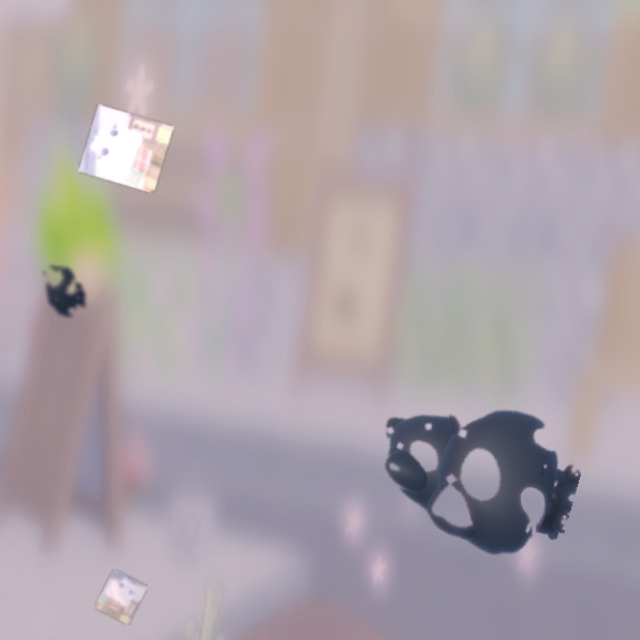urso_branco: (78, 104, 174, 194), (94, 569, 148, 625)
urso_preto: (345, 360, 597, 578), (31, 251, 97, 331)
